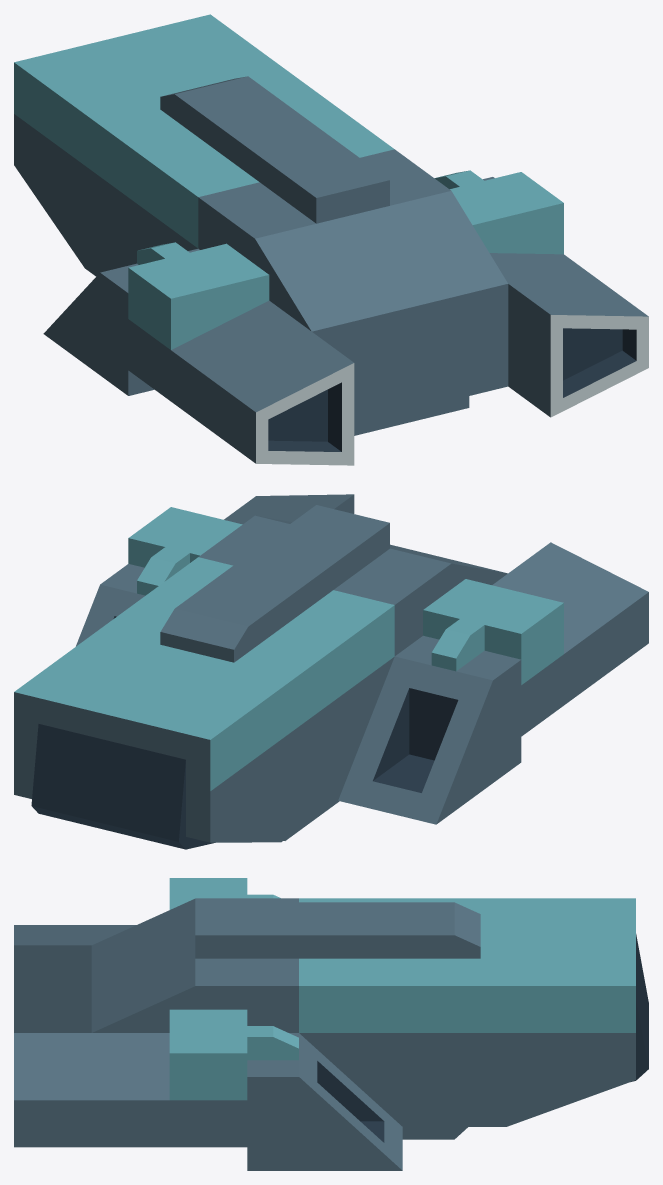
The model's file is craft_cargoA.glb.
The picture shows the model from 3 angles, top to bottom: view 1: azimuth 30°, elevation 25°; view 2: azimuth 150°, elevation 25°; view 3: azimuth 270°, elevation 25°; orthographic projection. The views are drawn at different scales.
Visible parts, largest first — view 1: craft_cargoA; view 2: craft_cargoA; view 3: craft_cargoA.
Part boxes in pixels (box(x1,y1,x2,y2)): craft_cargoA: box(14, 14, 648, 465); craft_cargoA: box(14, 494, 648, 849); craft_cargoA: box(14, 878, 648, 1170).
Bounding box in the file's own units: 1.6 × 0.8 × 2.45.
